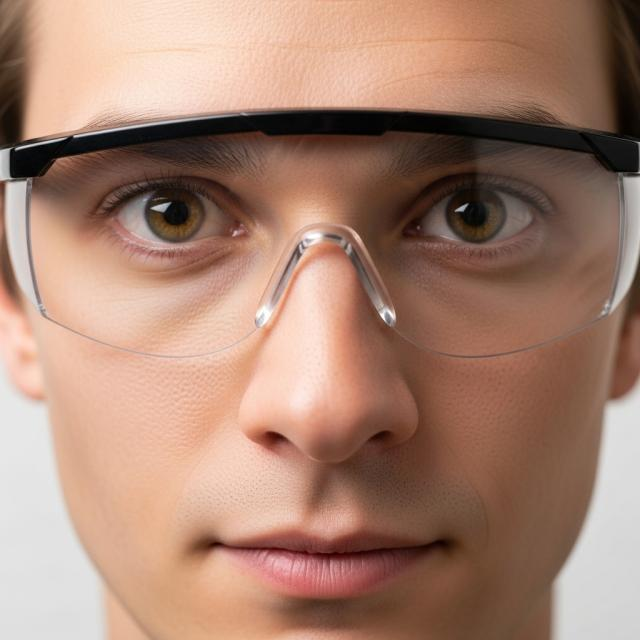oculos-epi: (0, 111, 639, 357)
